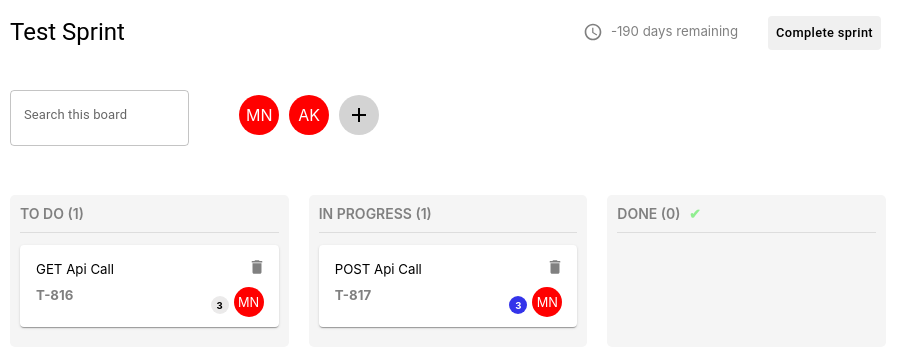
Test case: component/KanbanBoard/Board.jsx › Filters tickets by search query
Expected: the element with test id "column-To Do" shows "GET Api Call", 36,261 -> 114,277
Expected: the element with test id "column-In Progress" shows "POST Api Call", 335,261 -> 422,277
Type "GET Api" into the field with test id "search-input" at (100, 118), box 10,90 -> 189,146
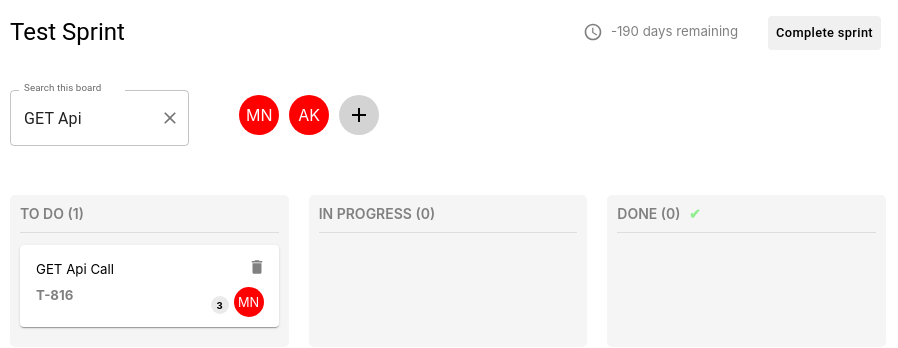
Expected: the element with test id "ticket-T-816" is shown, 20,245 -> 279,327
Expected: the element with test id "ticket-T-817" is gone
